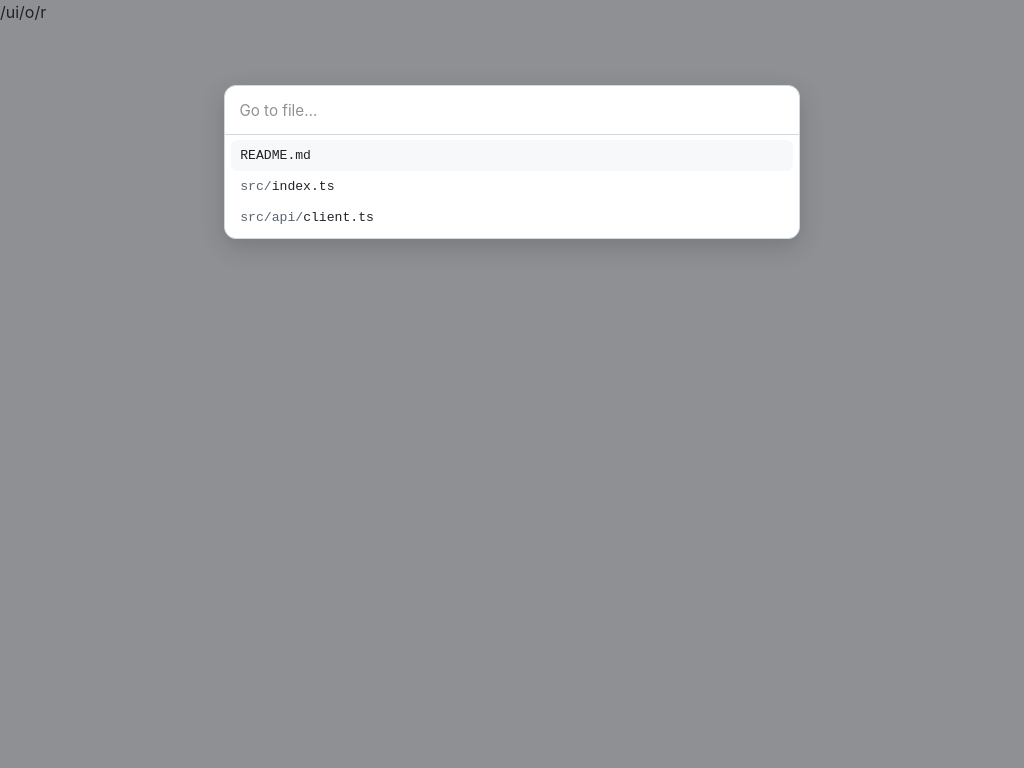
Scenario: GoToFile › lists blobs (not trees) and fuzzy-filters by path
Expected: the option "README.md" is shown, [231,140,793,171]
Expected: the option "src/index.ts" is shown, [240,179,335,194]
Type "client" into the dropdown.
click(512, 111); type("client")  # box [239,100,785,122]
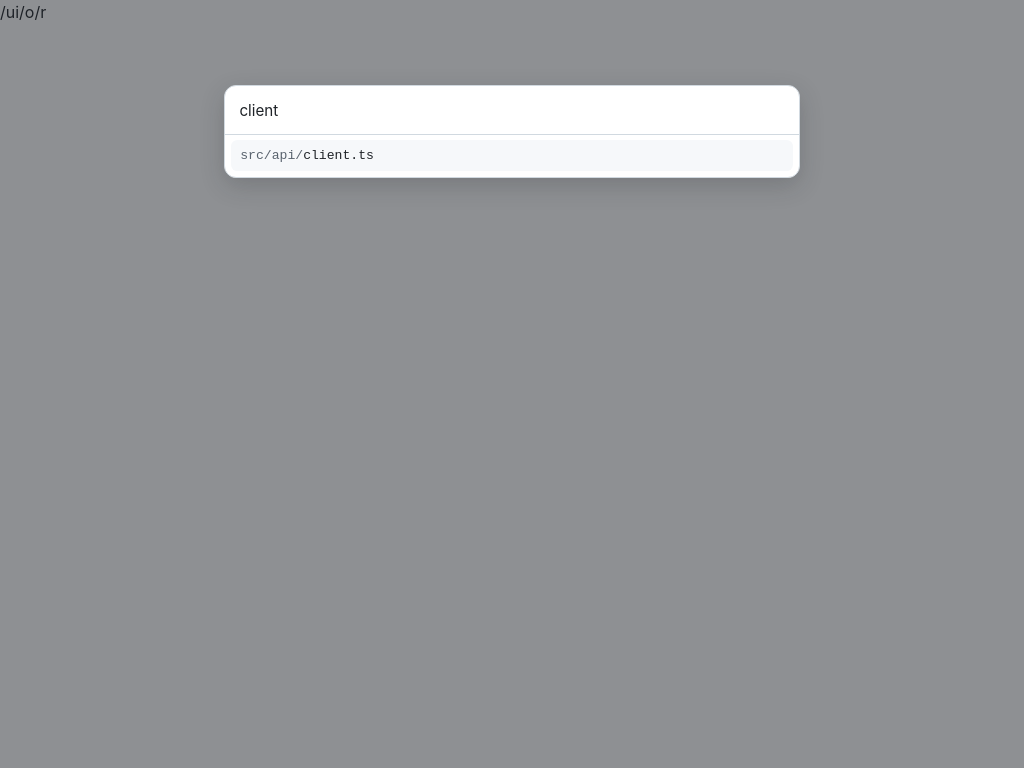
Expected: the option "src/api/client.ts" is shown, [231,140,793,171]
Expected: the option "README.md" is gone
